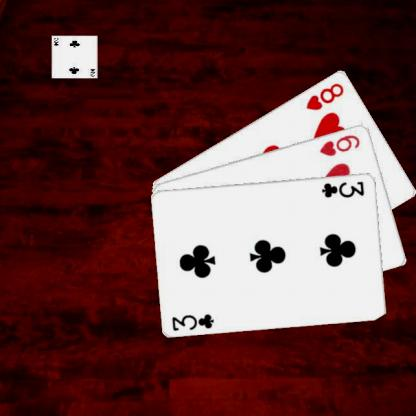3C: (320, 177, 366, 199), (169, 311, 216, 332)
6H: (317, 132, 361, 158)
8H: (302, 80, 346, 112)
